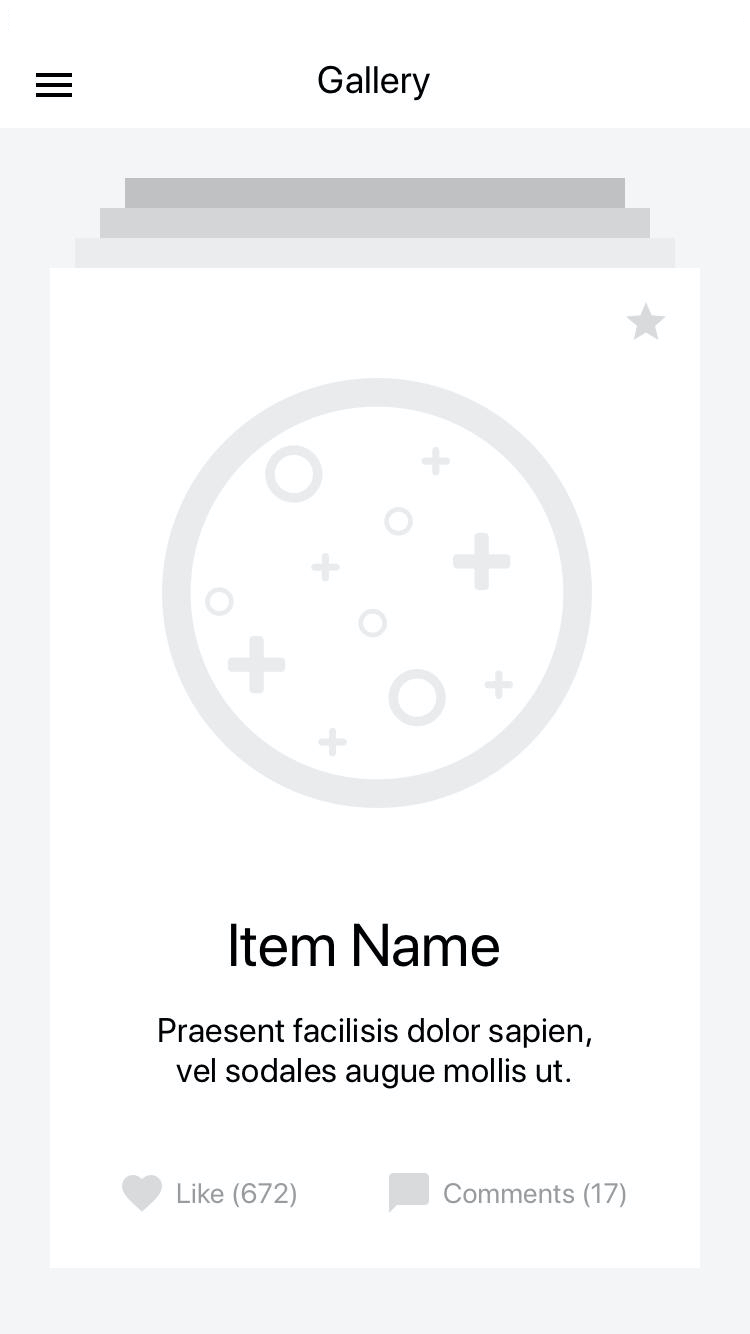Icon: (388, 1171, 430, 1214), (626, 302, 666, 342), (123, 1174, 164, 1213), (36, 73, 74, 99)
Image: (161, 377, 593, 808)
Text: (158, 1017, 592, 1092), (230, 922, 501, 968), (444, 1181, 627, 1208), (317, 65, 431, 102), (178, 1182, 298, 1208)
